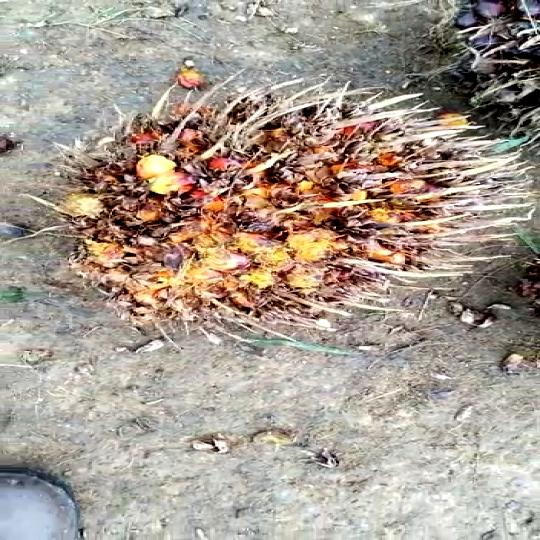terlalu masak: (56, 70, 540, 365)
